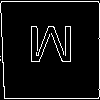M: (26, 25, 76, 73)
